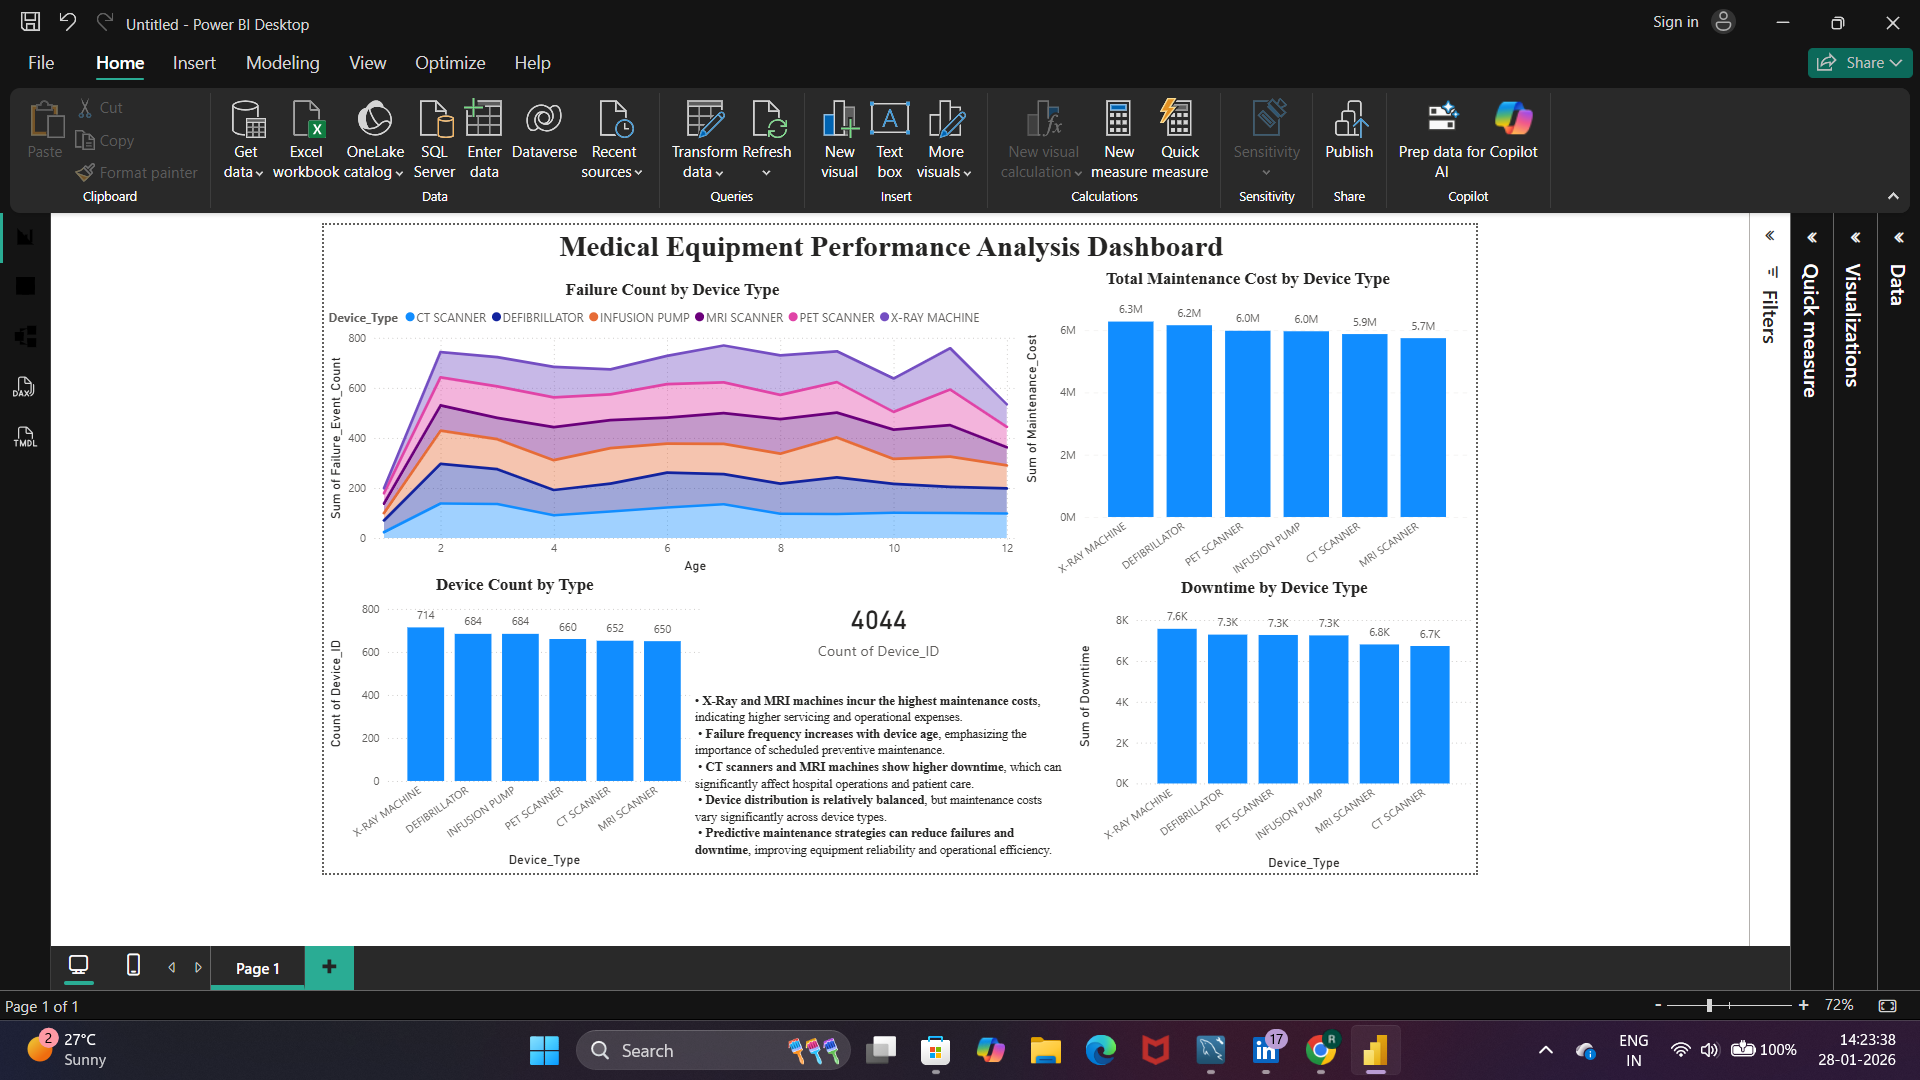

Layout of this report page (visuals, bound fields, positions):
{"tool":"powerbi","page":{"name":"Page 1","canvas":[1280,720],"ordinal":0},"visuals":[{"type":"card","fields":{"Values":["CountNonNull(medical_device_data.Device_ID)"]},"box":[458.2,340.3,316.4,214.9],"z":0},{"type":"clusteredColumnChart","title":"Device Count by Type","fields":{"Category":["medical_device_data.Device_Type"],"Y":["CountNonNull(medical_device_data.Device_ID)"]},"box":[0,389.6,423.9,329.9],"z":1},{"type":"stackedAreaChart","title":"Failure Count by Device Type","fields":{"Category":["medical_device_data.Age"],"Y":["Sum(medical_device_data.Failure_Event_Count)"],"Series":["medical_device_data.Device_Type"]},"box":[0,60.9,773.9,330.4],"z":2},{"type":"clusteredColumnChart","title":"Total Maintenance Cost by Device Type","fields":{"Category":["medical_device_data.Device_Type"],"Y":["Sum(medical_device_data.Maintenance_Cost)"]},"box":[773.9,49.3,505.8,376.8],"z":3},{"type":"clusteredColumnChart","title":"Downtime by Device Type","fields":{"Category":["medical_device_data.Device_Type"],"Y":["Sum(medical_device_data.Downtime)"]},"box":[831.3,391,447.8,329.9],"z":4},{"type":"textbox","box":[100,0,1060.9,49.3],"z":5},{"type":"textbox","box":[407.5,513.4,423.9,207.5],"z":6}]}

Visuals, with their boxes on the page's 1280x720 design canvas (x1, y1, x2, y2). These are canvas units, not pixel positions in the 1920x1080 screenshot, which may show the page scaled, cropped or inside an application window:
card - CountNonNull(medical_device_data.Device_ID): BBox(458, 340, 775, 555)
"Device Count by Type" clusteredColumnChart: BBox(0, 390, 424, 720)
"Failure Count by Device Type" stackedAreaChart: BBox(0, 61, 774, 391)
"Total Maintenance Cost by Device Type" clusteredColumnChart: BBox(774, 49, 1280, 426)
"Downtime by Device Type" clusteredColumnChart: BBox(831, 391, 1279, 721)
textbox: BBox(100, 0, 1161, 49)
textbox: BBox(408, 513, 831, 721)
